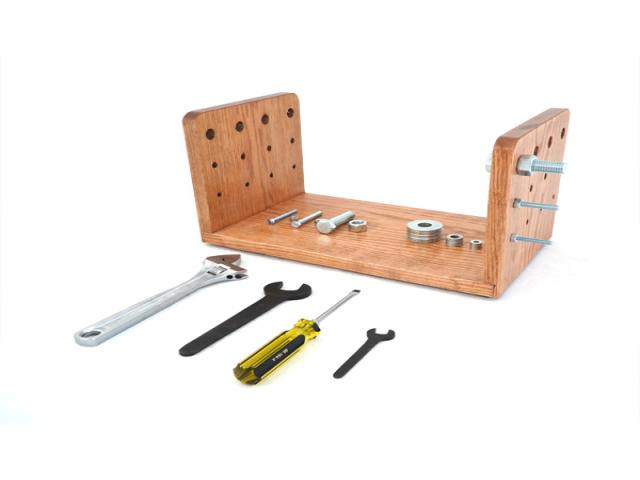Adjustable spanner: (75, 255, 247, 346)
Screwdriver: (234, 290, 360, 384)
Wrench: (179, 281, 311, 356), (332, 328, 395, 378)
